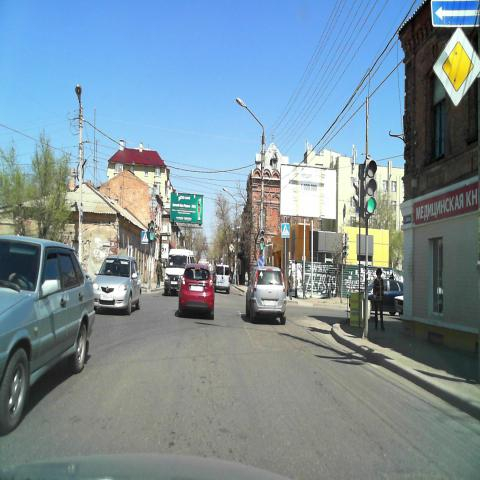5_7_2: (430, 0, 479, 28)
